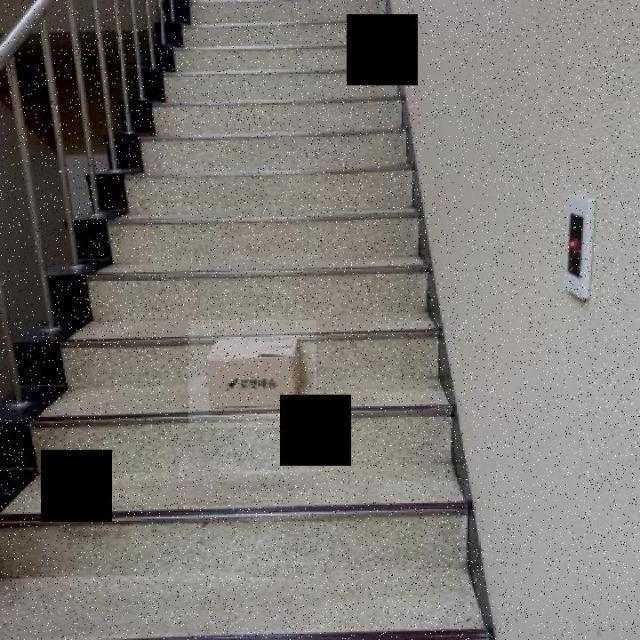box: (188, 320, 316, 428)
